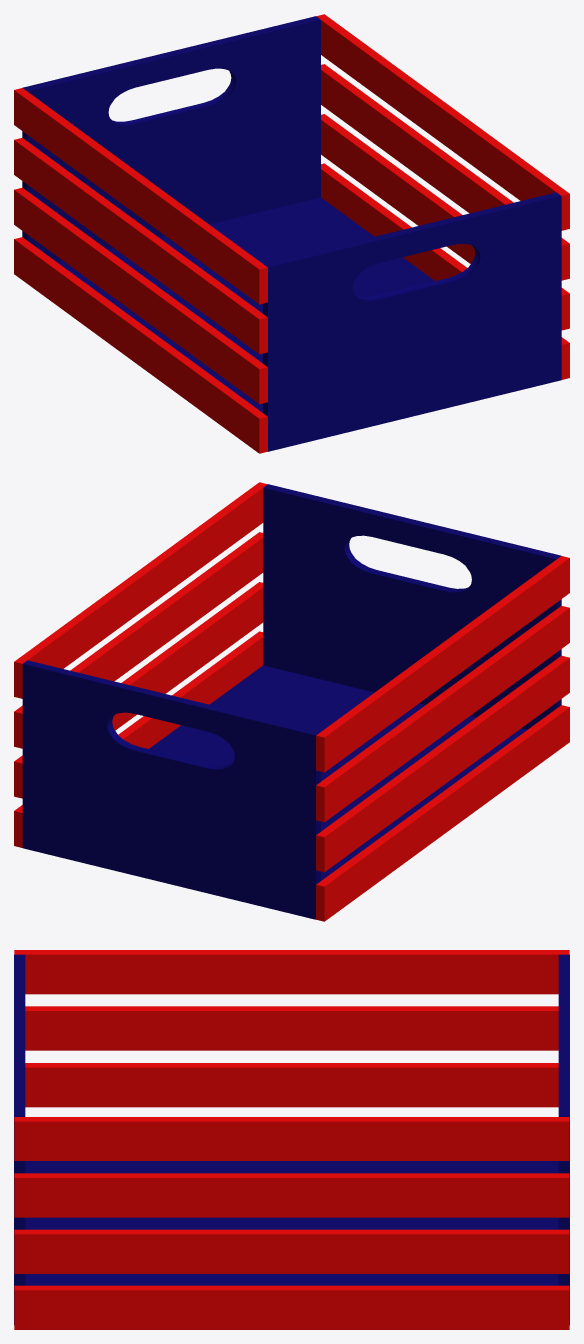
Rendered from BoxOpenHIGHID.fbx.
3 renders of one model, top to bottom at view 1: azimuth 30°, elevation 25°; view 2: azimuth 150°, elevation 25°; view 3: azimuth 270°, elevation 25°, orthographic. The views are drawn at different scales.
Visible parts, largest first — view 1: Box014; view 2: Box014; view 3: Box014.
Boxes of the visible parts, x1,y1,x2,y2 form: Box014: (14,14,569,453); Box014: (14,482,569,921); Box014: (14,950,569,1329).
Size of the model in its own units: 17.05 by 23.36 by 9.67.
